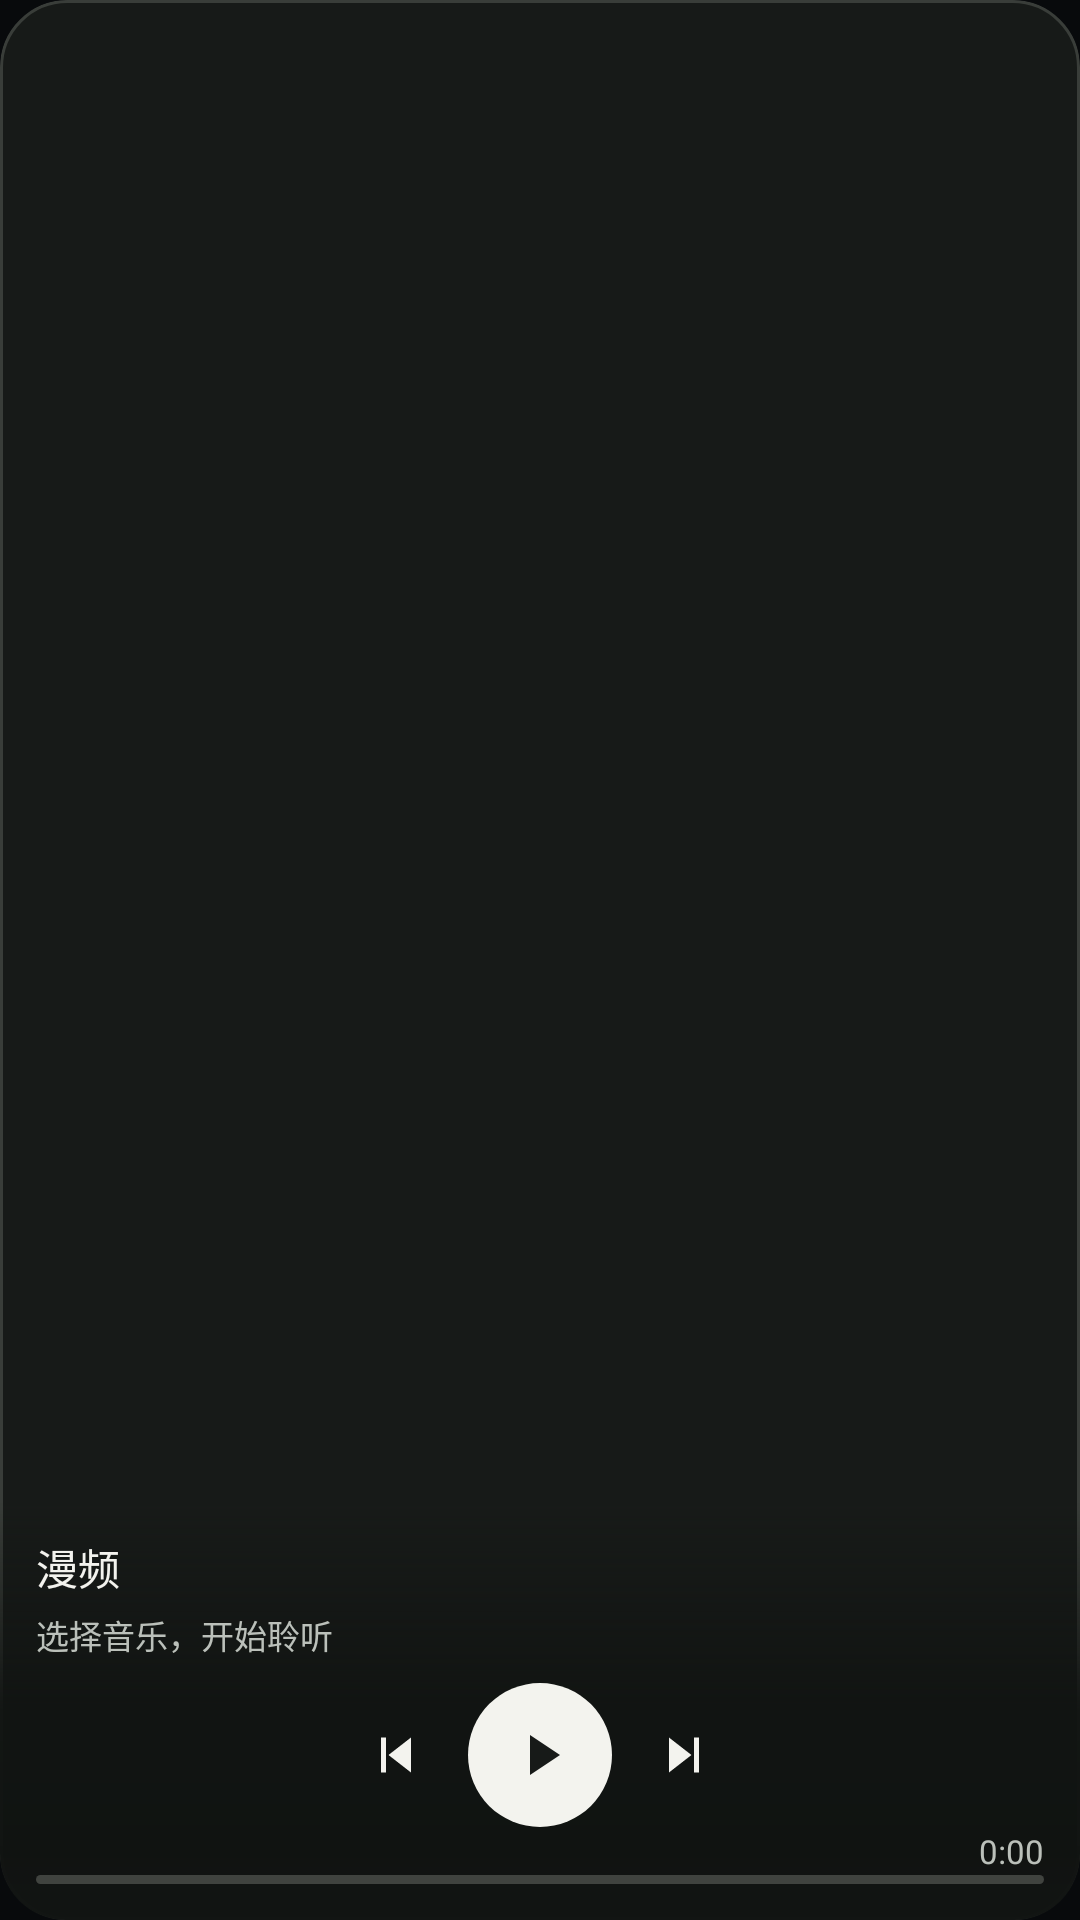

Screen size 1080px×1920px. Icon name, then its box in pixels as (x1, y1, x2, y2):
上一首: (381, 1737, 411, 1773)
下一首: (669, 1737, 699, 1773)
播放或暂停: (468, 1683, 612, 1827)
